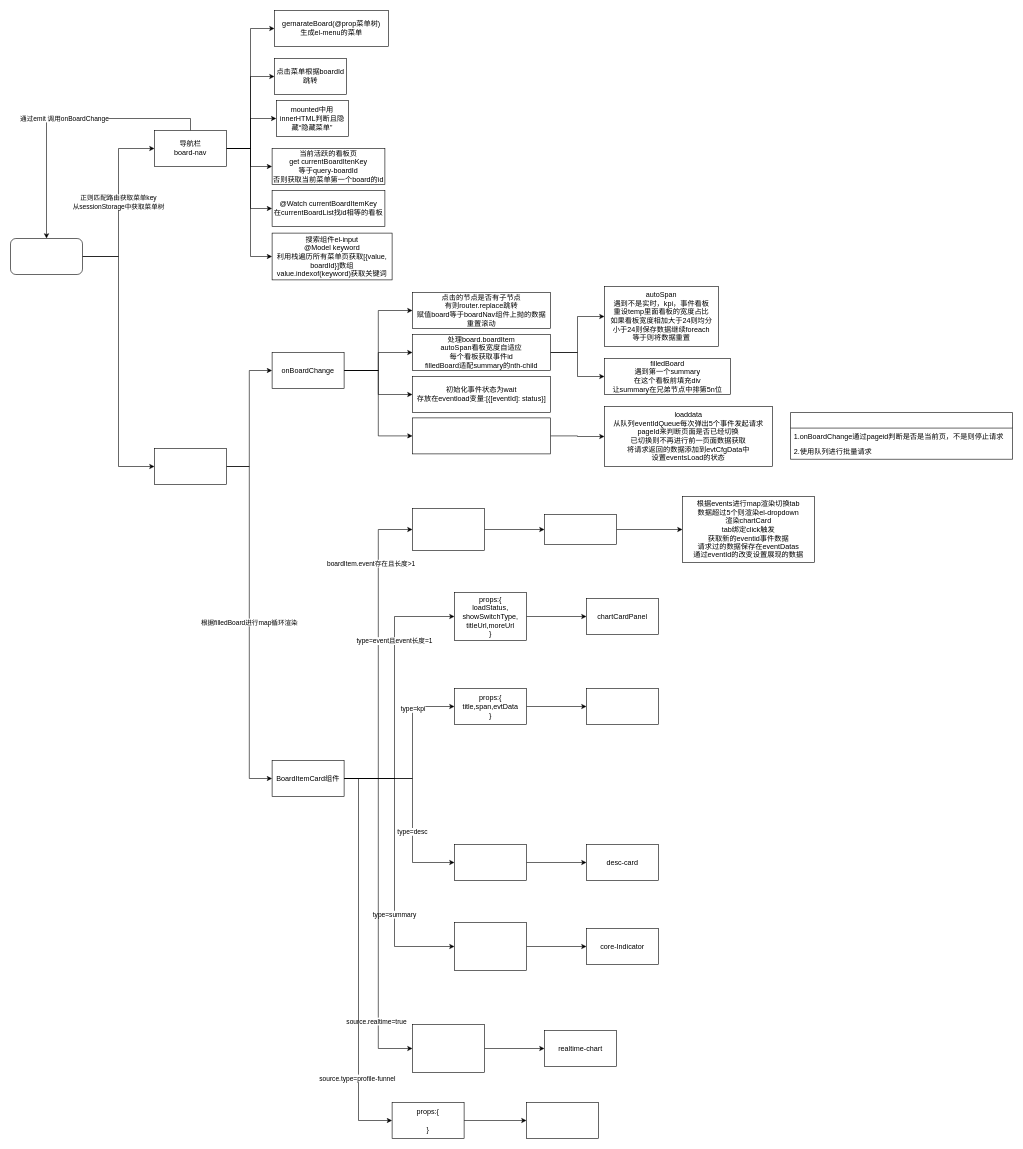
Some shapes in this 1023 by 1149 pixel diagram are drawn without their labels. The box of each missing label's shape, as (x1, y1, x2, y2) in pixels:
kpiCard: (586, 688, 658, 724)
profile-funnel: (526, 1102, 598, 1138)
props:{ dates,boardItem, evtData,title,span, cardHeight, }: (412, 508, 484, 550)
props:{ dates,eventId, filteritem,span, cardHeight,offsetLeft }: (412, 1024, 484, 1072)
props:{ eventId, loadStatus, evtData,titleUrl, title, moreUrl }: (454, 922, 526, 970)
props:{ itemIndex, title, desc }: (454, 844, 526, 880)
tabChartCard: (544, 514, 616, 544)
渲染看板: (154, 448, 226, 484)
看板页 detail: (10, 238, 82, 274)
获取所有非实时的事件id-eventIdQueue 执行loaddata循环请求事件数据: (412, 417, 550, 454)
请求太多等待时间过长请求超时的问题: (790, 412, 1012, 459)
